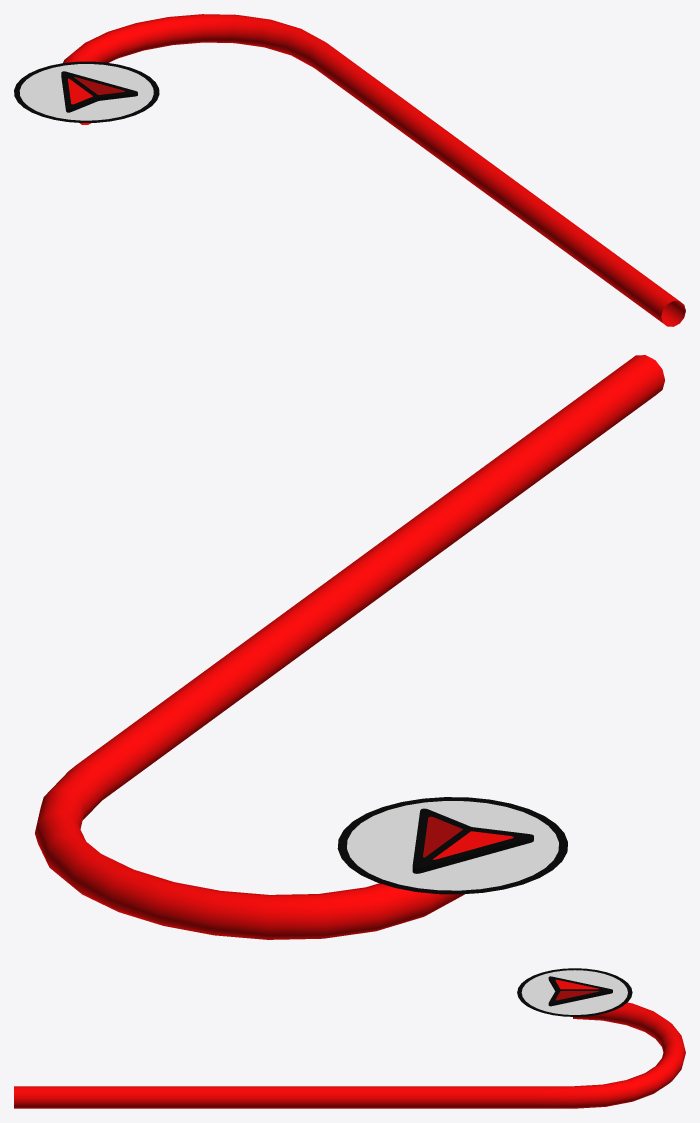
File: route_6eb60178-7032-44f3-a7d2-939151628600_en_target.glb
3 views of the same model, one above another, from view 1: azimuth 30°, elevation 25°; view 2: azimuth 150°, elevation 25°; view 3: azimuth 270°, elevation 25° (orthographic). The views are drawn at different scales.
Parts seen in each view (by area): view 1: Verwaltung.039, Navipfeil.007; view 2: Verwaltung.039, Navipfeil.007; view 3: Verwaltung.039, Navipfeil.007.
Boxes of the visible parts, x1,y1,x2,y2 form: Verwaltung.039: [63, 14, 685, 326]; Navipfeil.007: [14, 61, 159, 122]; Verwaltung.039: [35, 355, 664, 939]; Navipfeil.007: [337, 797, 567, 894]; Verwaltung.039: [14, 1002, 685, 1108]; Navipfeil.007: [517, 968, 632, 1016].
Size of the model in its own units: 0.997 by 0.1086 by 2.38.
